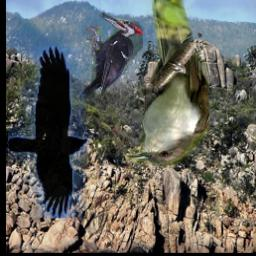Crow: (8, 46, 87, 218)
Cuckoo: (126, 0, 209, 170)
Woodpecker: (79, 13, 143, 99)
